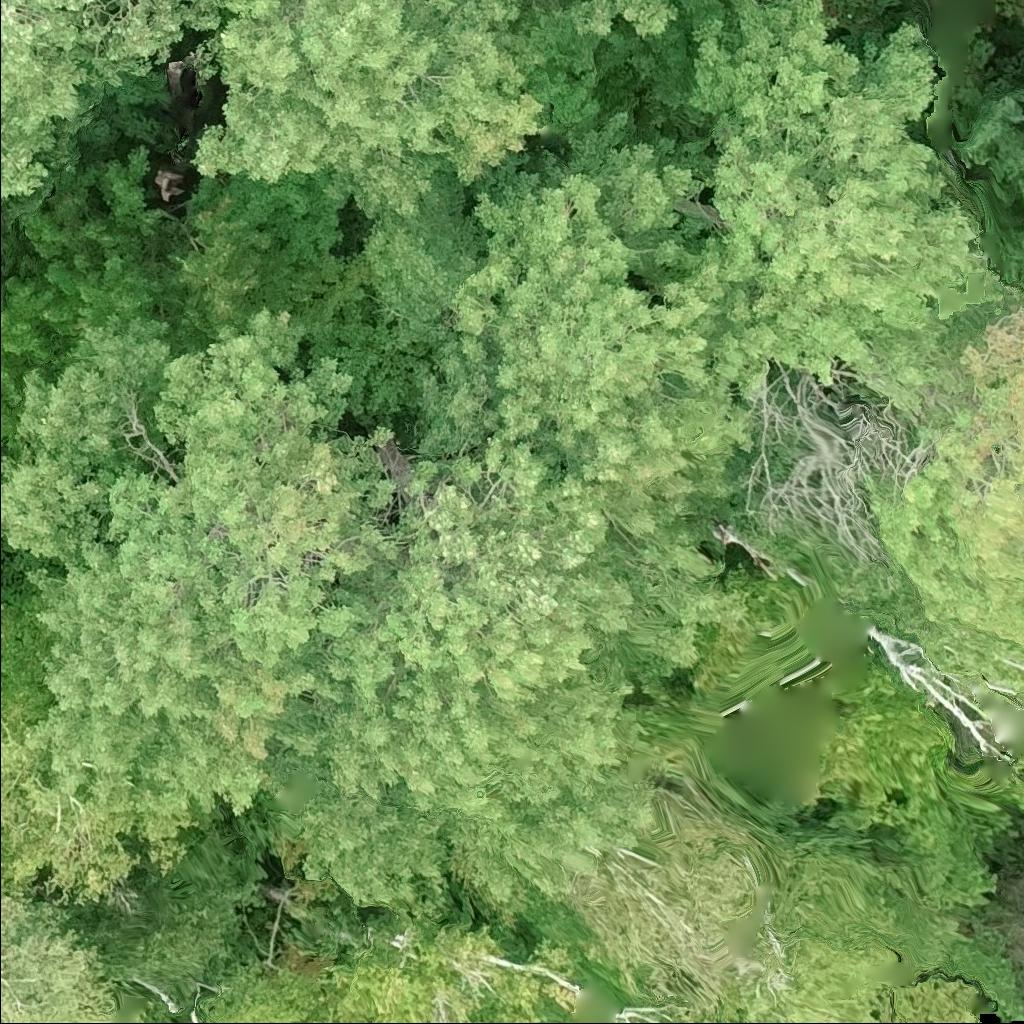crown: (0, 305, 396, 878), (298, 427, 737, 921), (302, 103, 784, 548), (622, 0, 1018, 426), (184, 0, 642, 224), (0, 0, 224, 200), (0, 692, 144, 909), (0, 869, 120, 1023), (0, 573, 50, 715), (562, 0, 704, 40)
